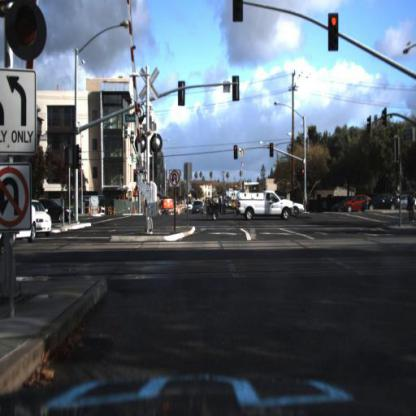car: (201, 187, 293, 225), (55, 190, 79, 235), (363, 192, 406, 215), (33, 197, 54, 240), (35, 196, 57, 237), (344, 192, 376, 208), (192, 198, 206, 219), (293, 198, 309, 216), (184, 197, 193, 217)
pedestrian: (407, 183, 416, 230)
trafficLight: (7, 1, 47, 60), (233, 1, 245, 23)
trafficLight-Red: (328, 12, 340, 54), (269, 139, 277, 162), (233, 142, 239, 163), (301, 164, 307, 185)
truck: (205, 186, 297, 224)
